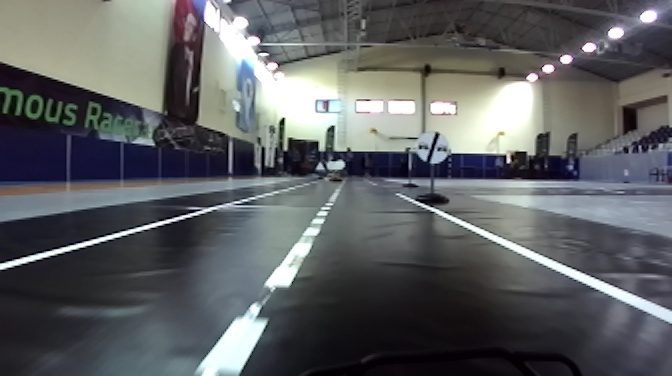sollama_serbest: (414, 133, 450, 164)
